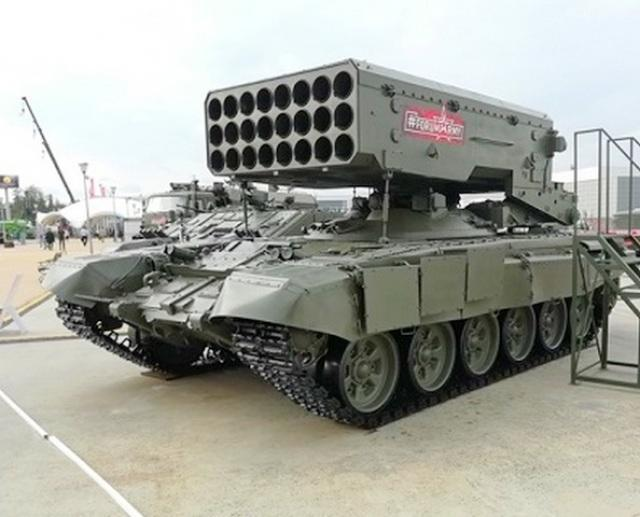tank: (51, 47, 629, 432)
